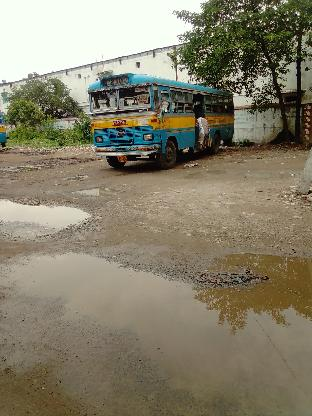bus: (89, 70, 234, 168)
